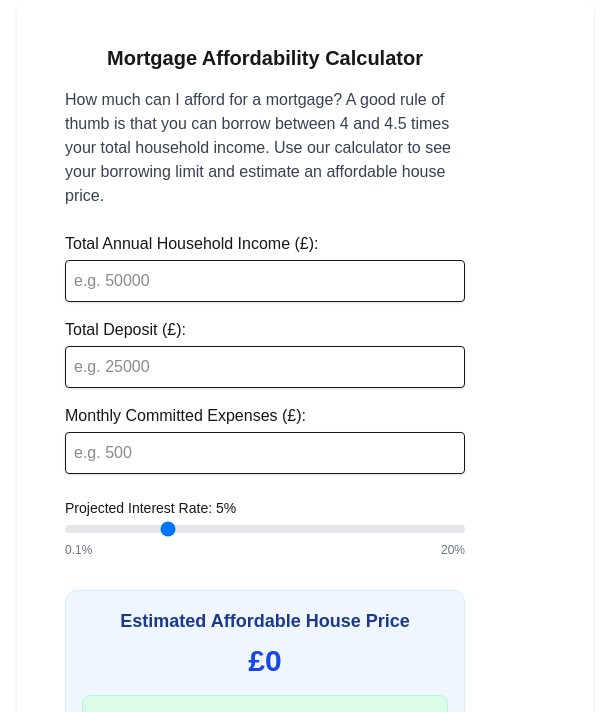
Test: AffordabilityCalculator › calculates affordability when income is updated
This screenshot has width=611, height=712.
Type "50000" into the number field with placeholder "e.g. 50000" at (265, 281), box [65,260,465,302]
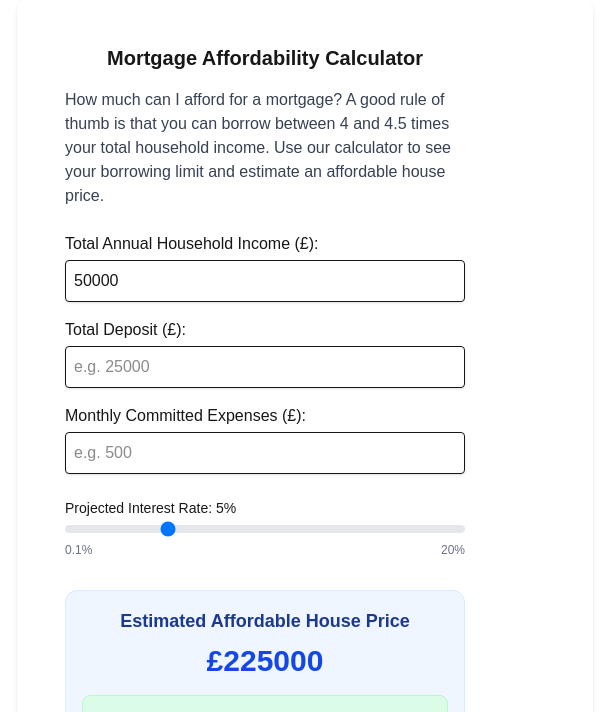
Check: the text "Estimated Affordable House Price" is shown, box [120,611,410,631]
Check: the text "£225000" is shown, box [207,644,323,677]
